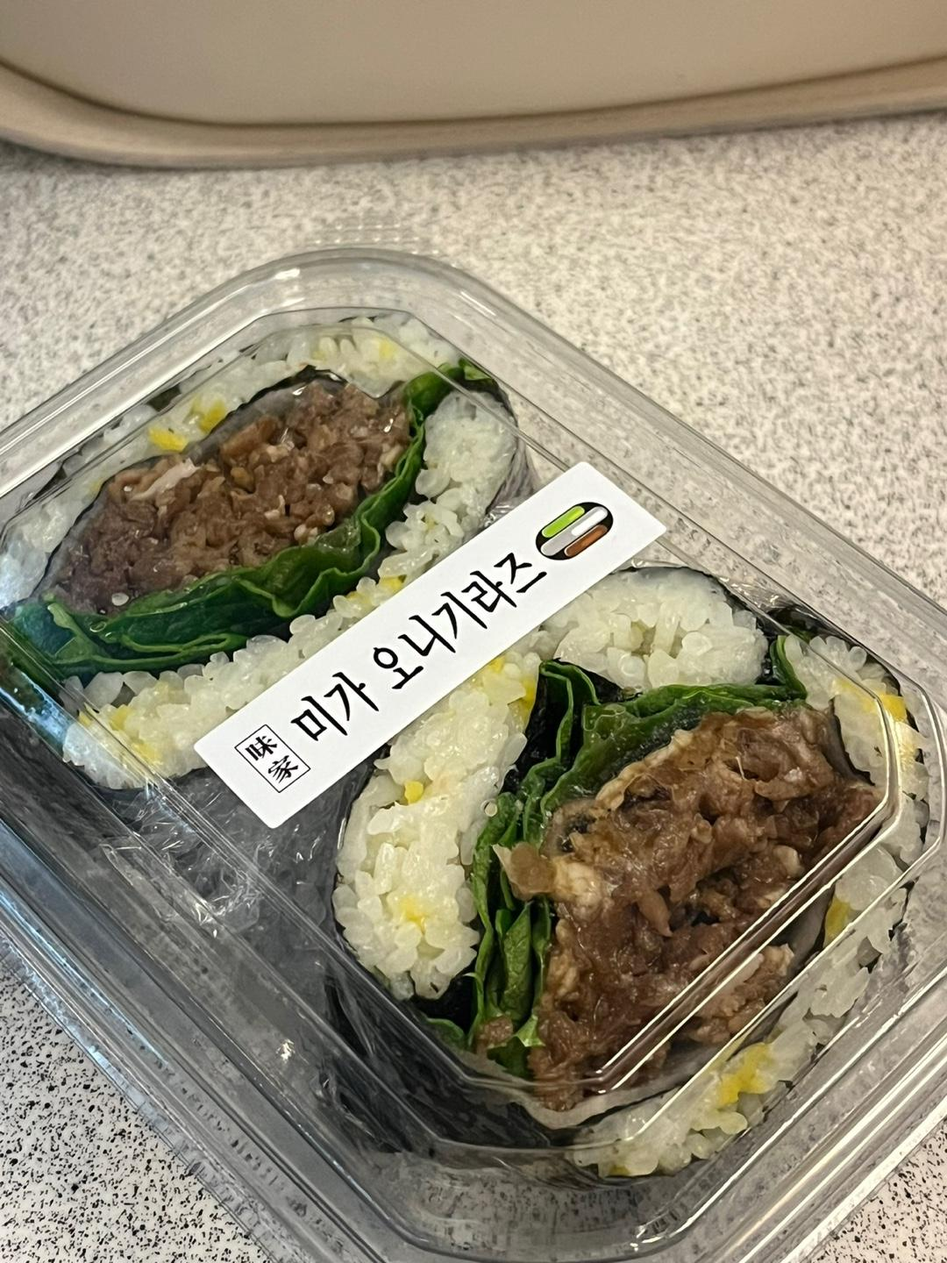Lunch Box: (0, 231, 946, 1262)
